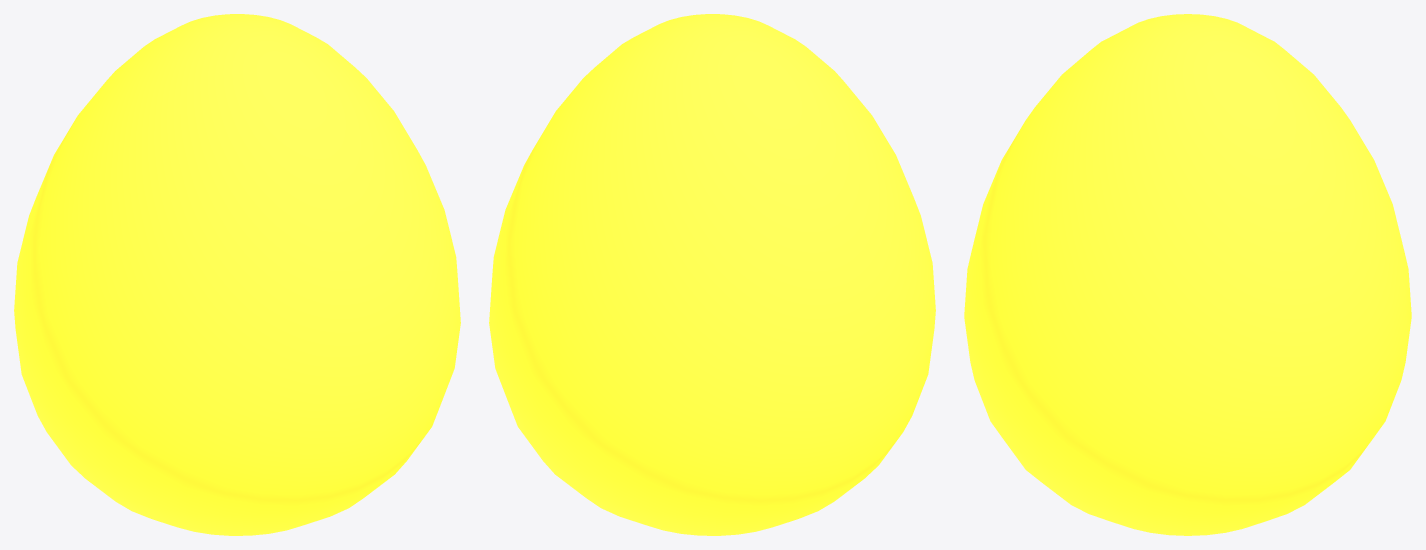
Rendered from egg.glb.
3 renders of one model, left to right at view 1: azimuth 30°, elevation 25°; view 2: azimuth 150°, elevation 25°; view 3: azimuth 270°, elevation 25°, orthographic.
Visible parts, largest first — view 1: Egg; view 2: Egg; view 3: Egg.
Boxes of the visible parts, x1,y1,x2,y2 form: Egg: (14,14,460,535); Egg: (489,14,935,535); Egg: (964,14,1411,535).
Bounding box in the file's own units: 0.0996 × 0.1198 × 0.0996.
